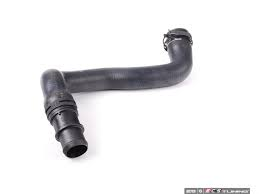radiator_hose: (41, 29, 192, 157)
